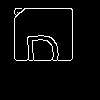D: (23, 24, 62, 73)
